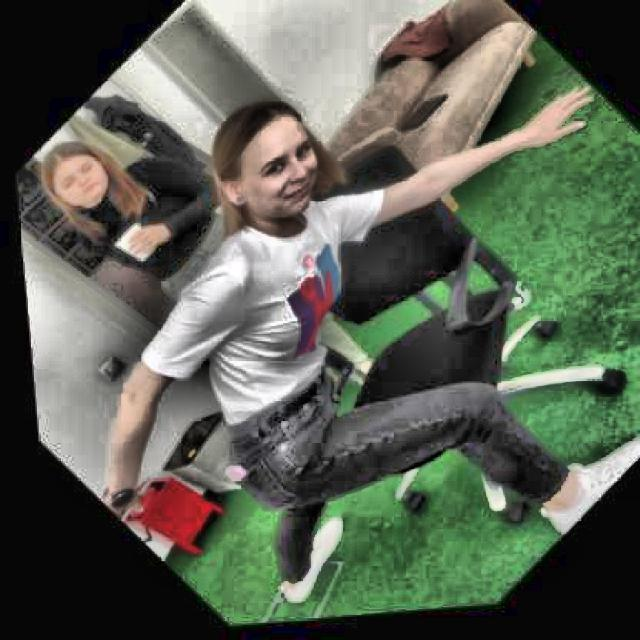cadeira: (170, 97, 638, 612)
